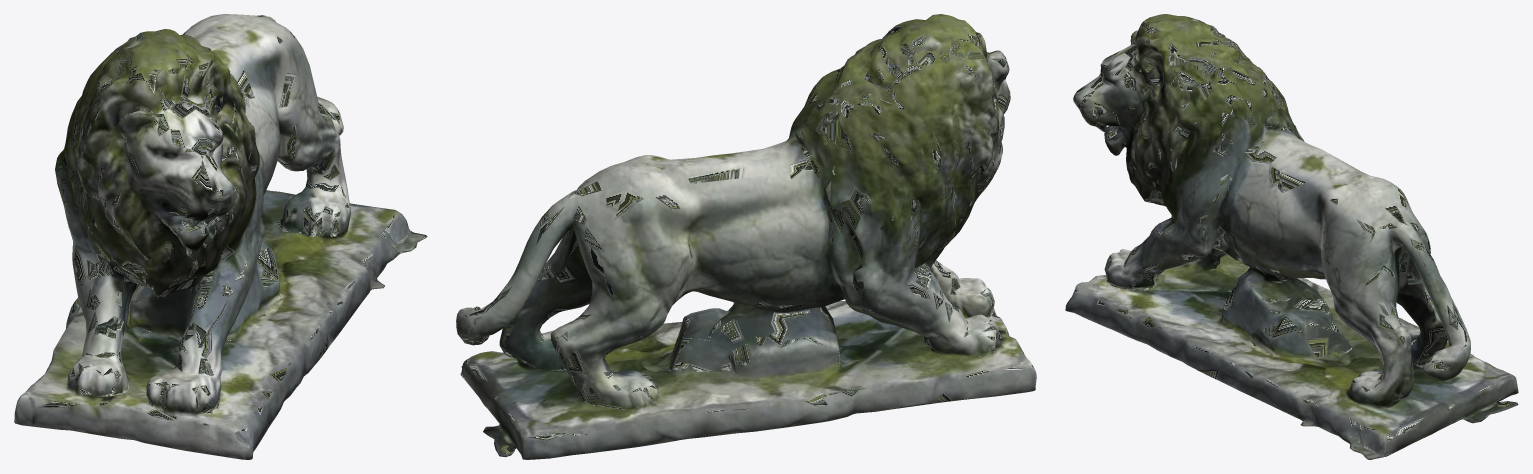
File: bq_lion.lod.glb
3 renders of one model, left to right at view 1: azimuth 30°, elevation 25°; view 2: azimuth 150°, elevation 25°; view 3: azimuth 270°, elevation 25°, orthographic. The views are drawn at different scales.
Size of the model in its own units: 2.01 by 1.41 by 1.97.
Materials: 1 (1 with a texture image).
